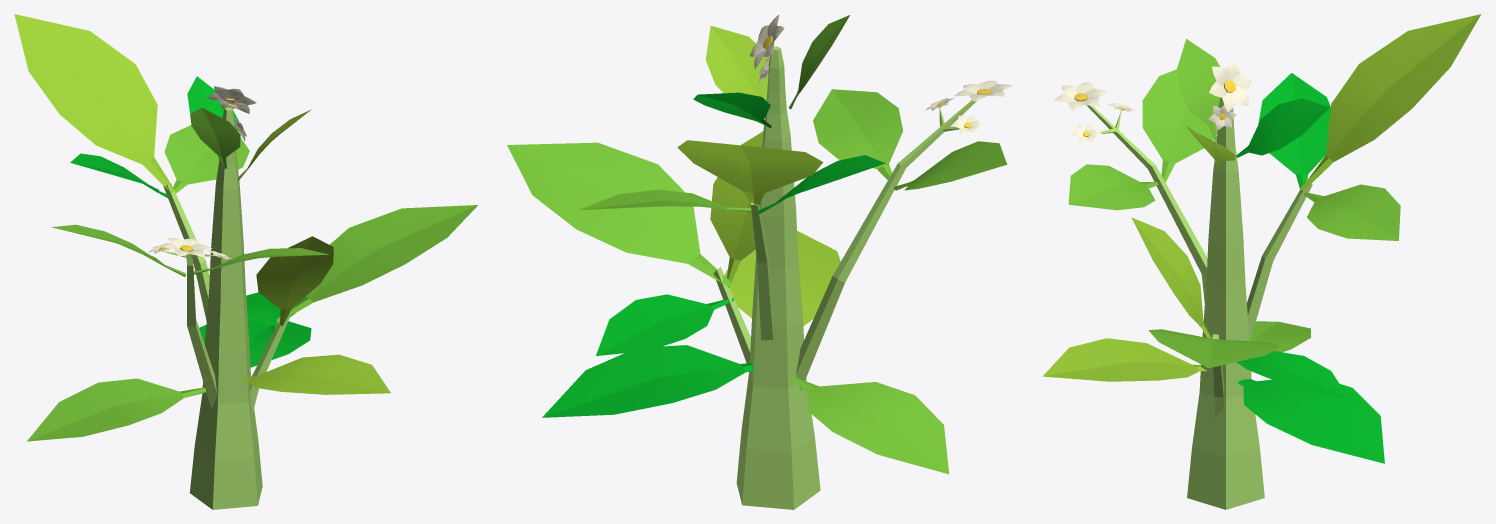
File: mesh_stage2bush01.fbx
3 renders of one model, left to right at view 1: azimuth 30°, elevation 25°; view 2: azimuth 150°, elevation 25°; view 3: azimuth 270°, elevation 25°, orthographic. The views are drawn at different scales.
Parts seen in each view (by area): view 1: mesh_stage2bush01; view 2: mesh_stage2bush01; view 3: mesh_stage2bush01.
Part boxes in pixels (<box>): mesh_stage2bush01: <box>14,14,477,509</box>; mesh_stage2bush01: <box>507,14,1013,509</box>; mesh_stage2bush01: <box>1042,14,1481,509</box>.
Size of the model in its own units: 49.45 by 45.87 by 41.77.
